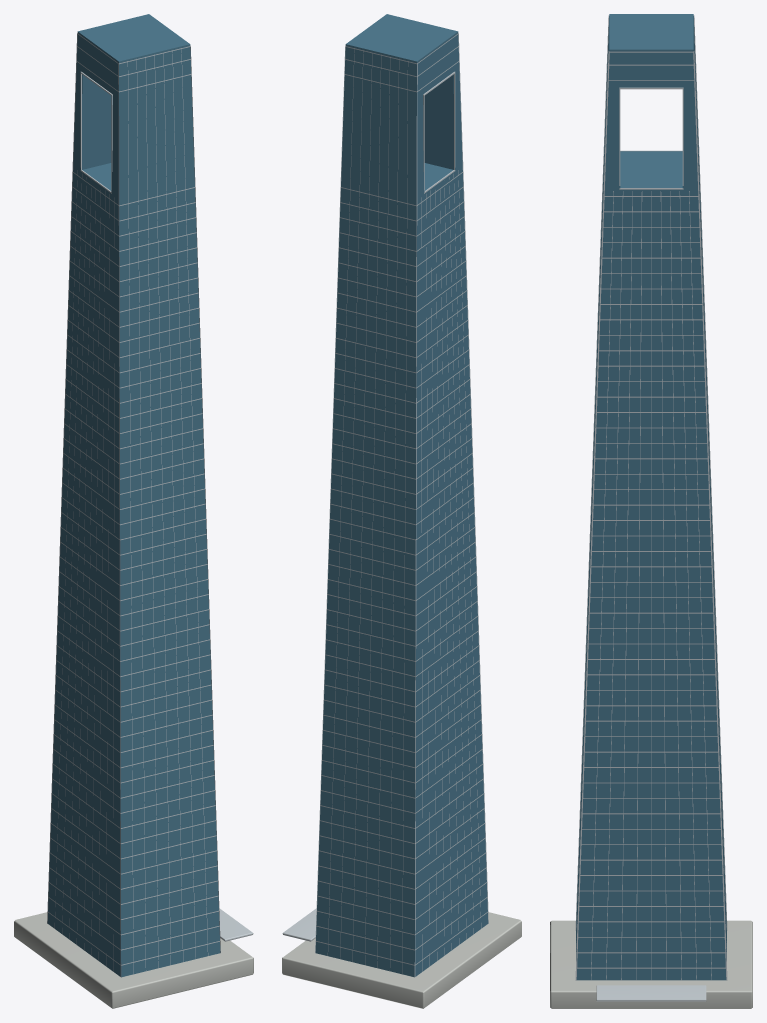
The model's file is swfc.glb.
The picture shows the model from 3 angles, left to right: view 1: azimuth 30°, elevation 25°; view 2: azimuth 150°, elevation 25°; view 3: azimuth 270°, elevation 25°; orthographic projection. The views are drawn at different scales.
Parts seen in each view (by area): view 1: SWFC · tapered glass body, SWFC · silver mullion grid, SWFC · low podium, SWFC · entrance canopy; view 2: SWFC · tapered glass body, SWFC · silver mullion grid, SWFC · low podium, SWFC · entrance canopy; view 3: SWFC · tapered glass body, SWFC · silver mullion grid, SWFC · low podium, SWFC · entrance canopy.
Boxes of the visible parts, x1,y1,x2,y2 form: SWFC · tapered glass body: (47,14,220,977); SWFC · silver mullion grid: (47,33,220,977); SWFC · low podium: (14,912,253,1008); SWFC · entrance canopy: (219,908,253,941); SWFC · tapered glass body: (315,14,488,977); SWFC · silver mullion grid: (315,33,488,977); SWFC · low podium: (282,912,521,1008); SWFC · entrance canopy: (282,908,316,941); SWFC · tapered glass body: (576,14,726,980); SWFC · silver mullion grid: (575,15,727,980); SWFC · low podium: (550,920,752,1008); SWFC · entrance canopy: (596,985,706,1001).
Bounding box in the file's own units: 92 × 492 × 96.
